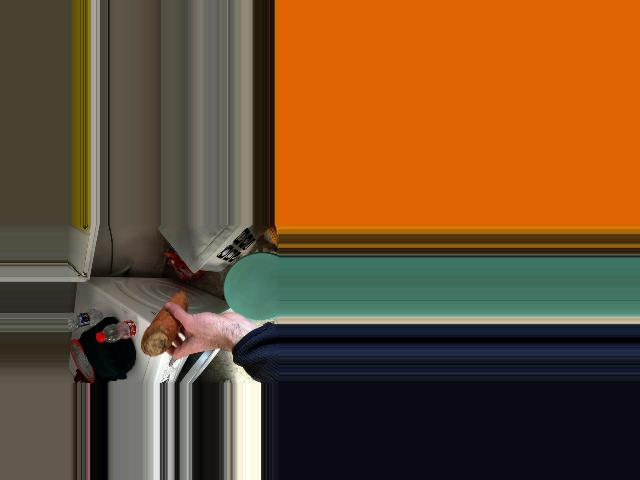sweet_potato: (140, 290, 185, 355)
